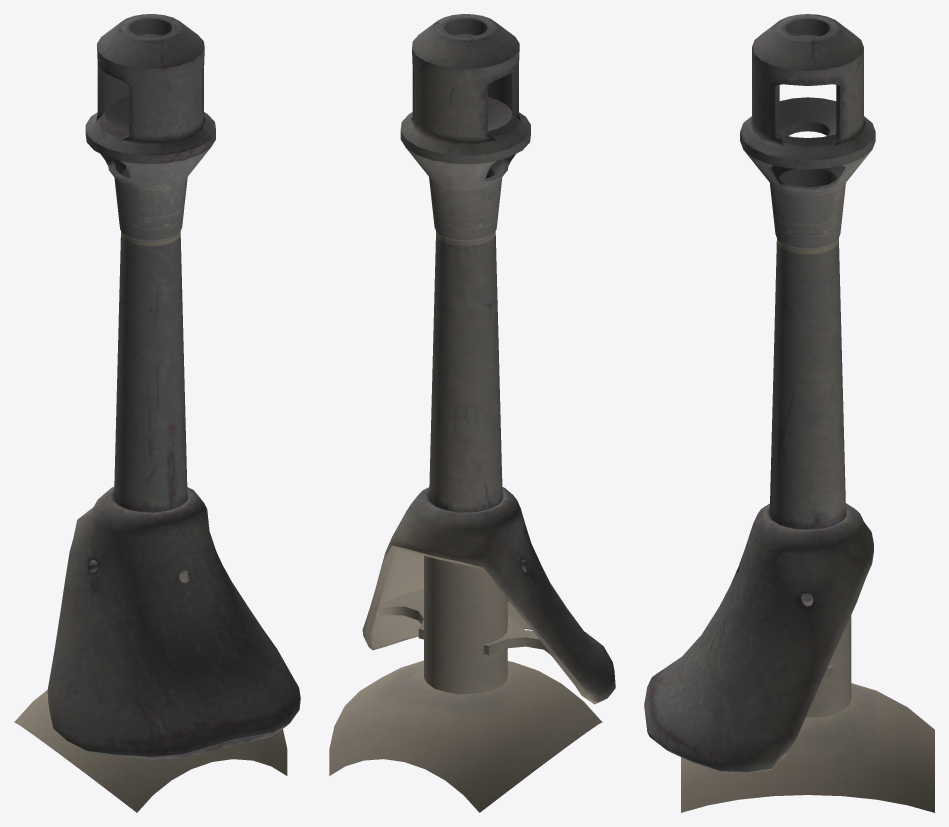
The model's file is Gun_03.glb.
3 renders of one model, left to right at view 1: azimuth 30°, elevation 25°; view 2: azimuth 150°, elevation 25°; view 3: azimuth 270°, elevation 25°, orthographic. The views are drawn at different scales.
Visible parts, largest first — view 1: set_0_group_0; view 2: set_0_group_0; view 3: set_0_group_0.
Boxes of the visible parts, left/top/right/bottom form: set_0_group_0: left=14, top=14, right=300, bottom=812; set_0_group_0: left=329, top=14, right=615, bottom=812; set_0_group_0: left=644, top=14, right=934, bottom=812.
Bounding box in the file's own units: 0.6465 × 1.93 × 0.6801.
1 material, 1 textured.
